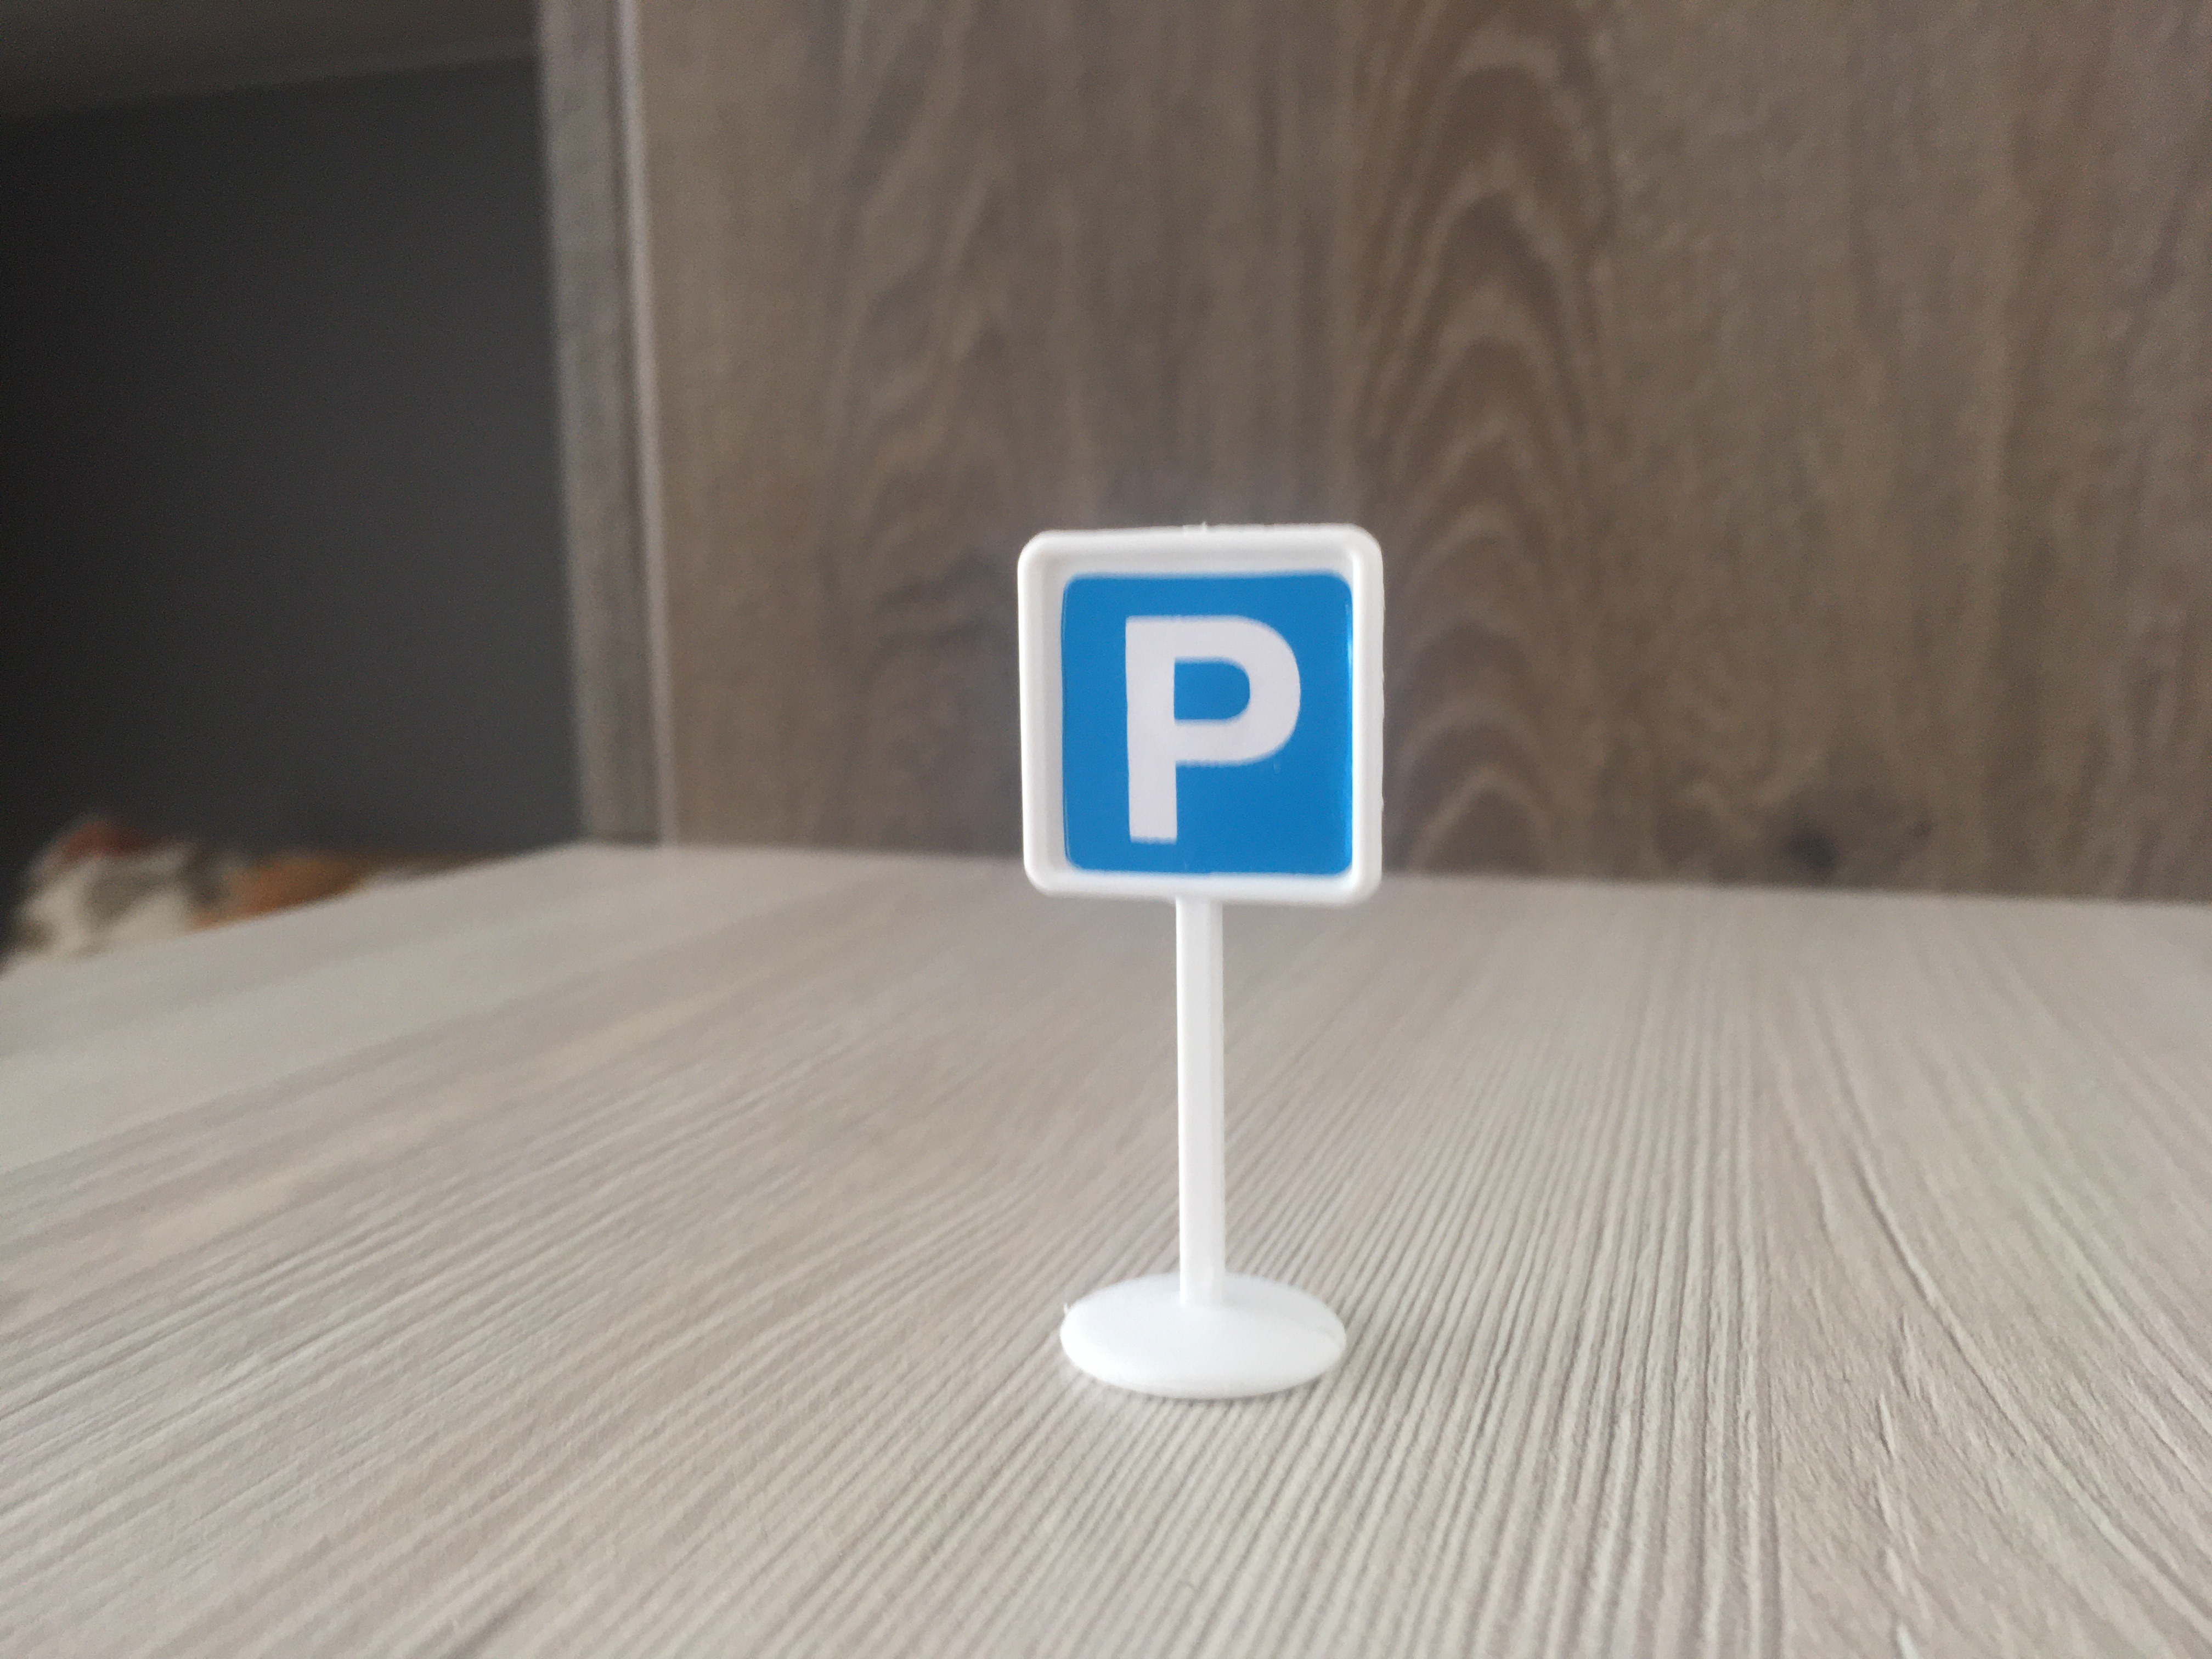parking: (1000, 519, 1386, 913)
